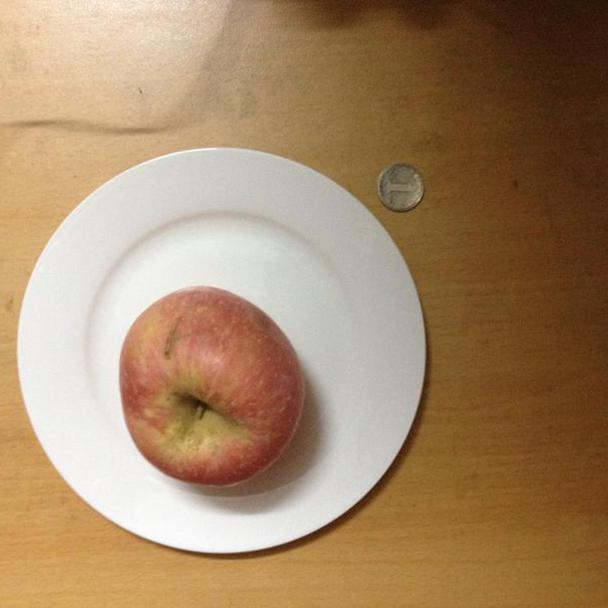apple: (120, 286, 302, 488)
